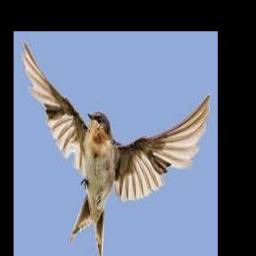Swallow: (22, 39, 211, 256)
